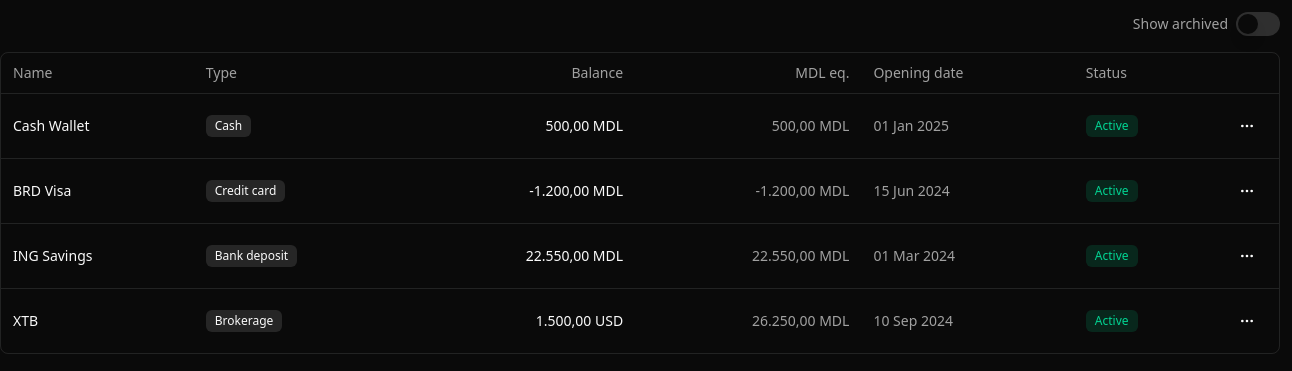
Test case: AccountsTable navigation › opens the row-action dropdown without navigating
Pick an active (non-archived) row's action trigger and open it.
What coordinates should you click on to do the following:
click the button with test id "account-actions"
I would click on:
 (1247, 126)
Its box is top-left (1227, 106), bottom-right (1267, 146).
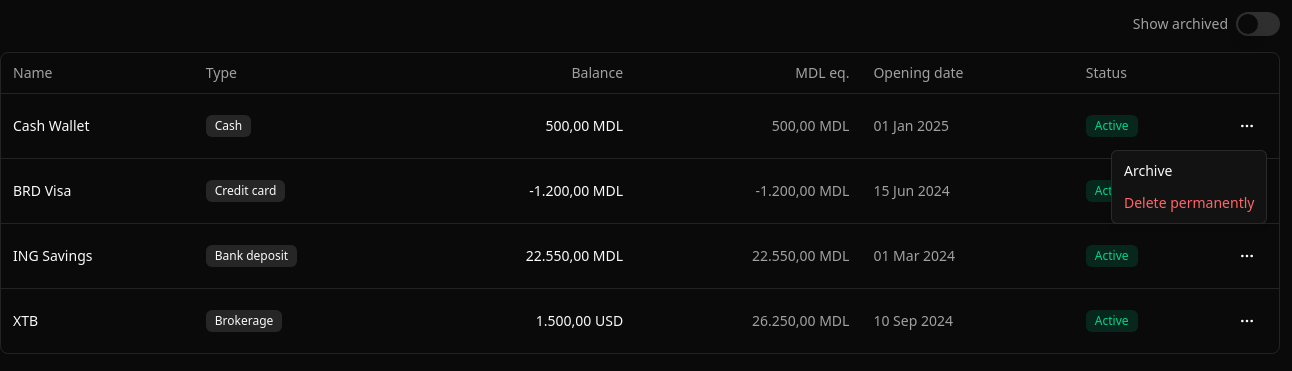
Expected: the menu item with test id "archive-account" is shown, top-left (1124, 161), bottom-right (1172, 180)
